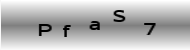7: (142, 21, 157, 35)
P: (37, 22, 52, 36)
S: (113, 8, 125, 22)
a: (89, 19, 101, 31)
f: (62, 23, 72, 38)
